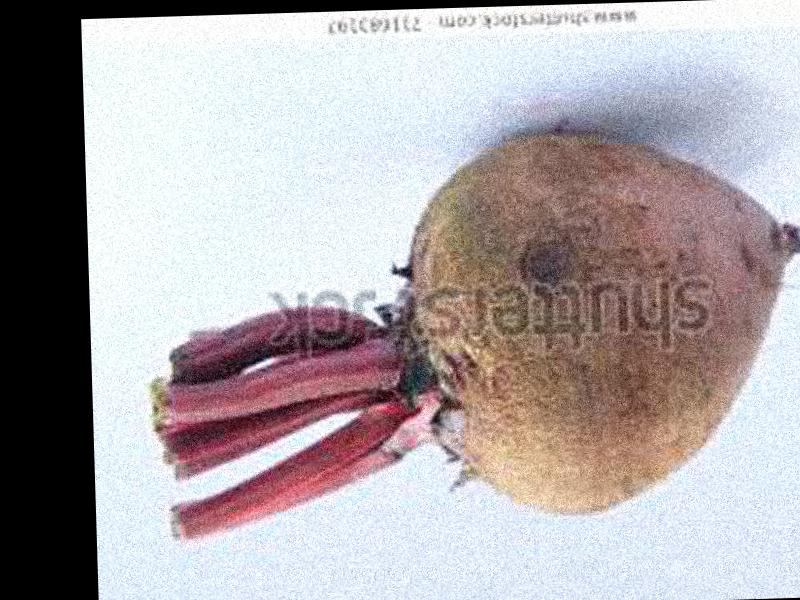Beet: (156, 128, 800, 533)
